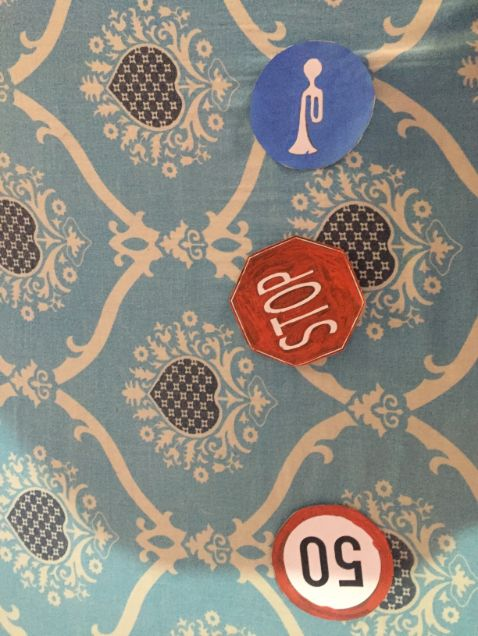blow-horn: (248, 42, 376, 170)
speed-50: (274, 504, 390, 620)
stop: (231, 237, 363, 363)
